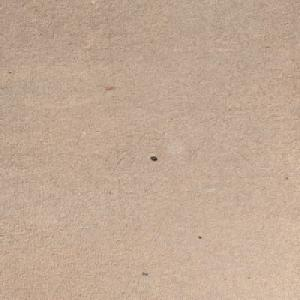Nut: (149, 155, 156, 159)
